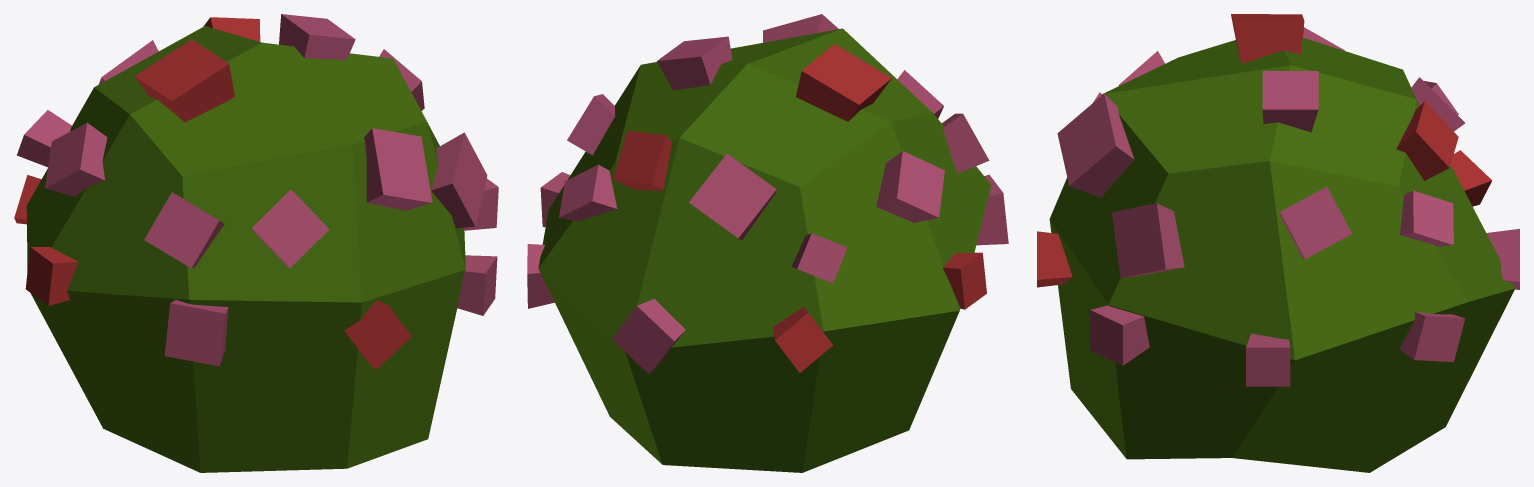
File: Bush.fbx
The picture shows the model from 3 angles, left to right: view 1: azimuth 30°, elevation 25°; view 2: azimuth 150°, elevation 25°; view 3: azimuth 270°, elevation 25°; orthographic projection. The views are drawn at different scales.
Visible parts, largest first — view 1: bush; view 2: bush; view 3: bush.
Part boxes in pixels (x1,y1,x2,y2): bush: (14, 14, 498, 472); bush: (527, 14, 1008, 472); bush: (1037, 14, 1519, 472).
Bounding box in the file's own units: 87.82 × 70.86 × 83.1.
